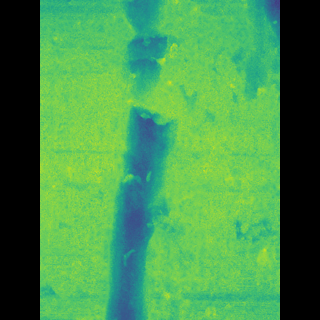Loch: (68, 0, 250, 320)
